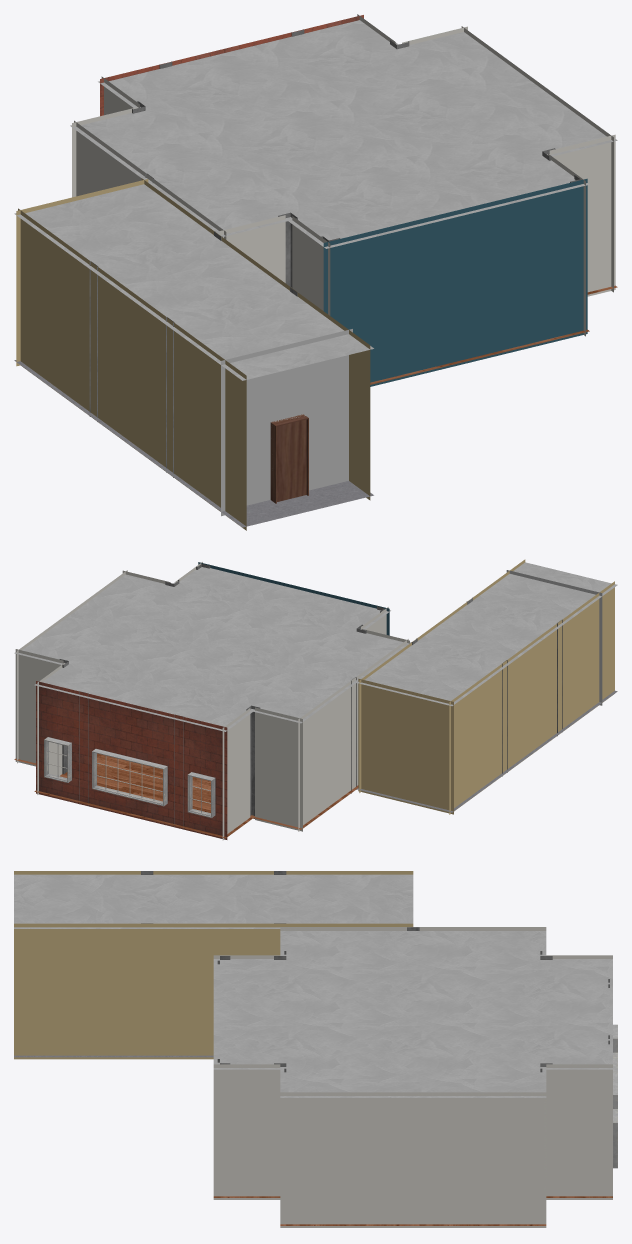
Rendered from conference_room1.glb.
The picture shows the model from 3 angles, top to bottom: view 1: azimuth 30°, elevation 25°; view 2: azimuth 150°, elevation 25°; view 3: azimuth 270°, elevation 25°; orthographic projection. The views are drawn at different scales.
Parts seen in each view (by area): view 1: ConfRoom; view 2: ConfRoom; view 3: ConfRoom.
Part boxes in pixels (x1,y1,x2,y2): ConfRoom: (14, 14, 617, 530); ConfRoom: (14, 559, 617, 840); ConfRoom: (14, 871, 617, 1227).
Bounding box in the file's own units: 16 × 4.5 × 18.15.
1 material, 1 textured.
